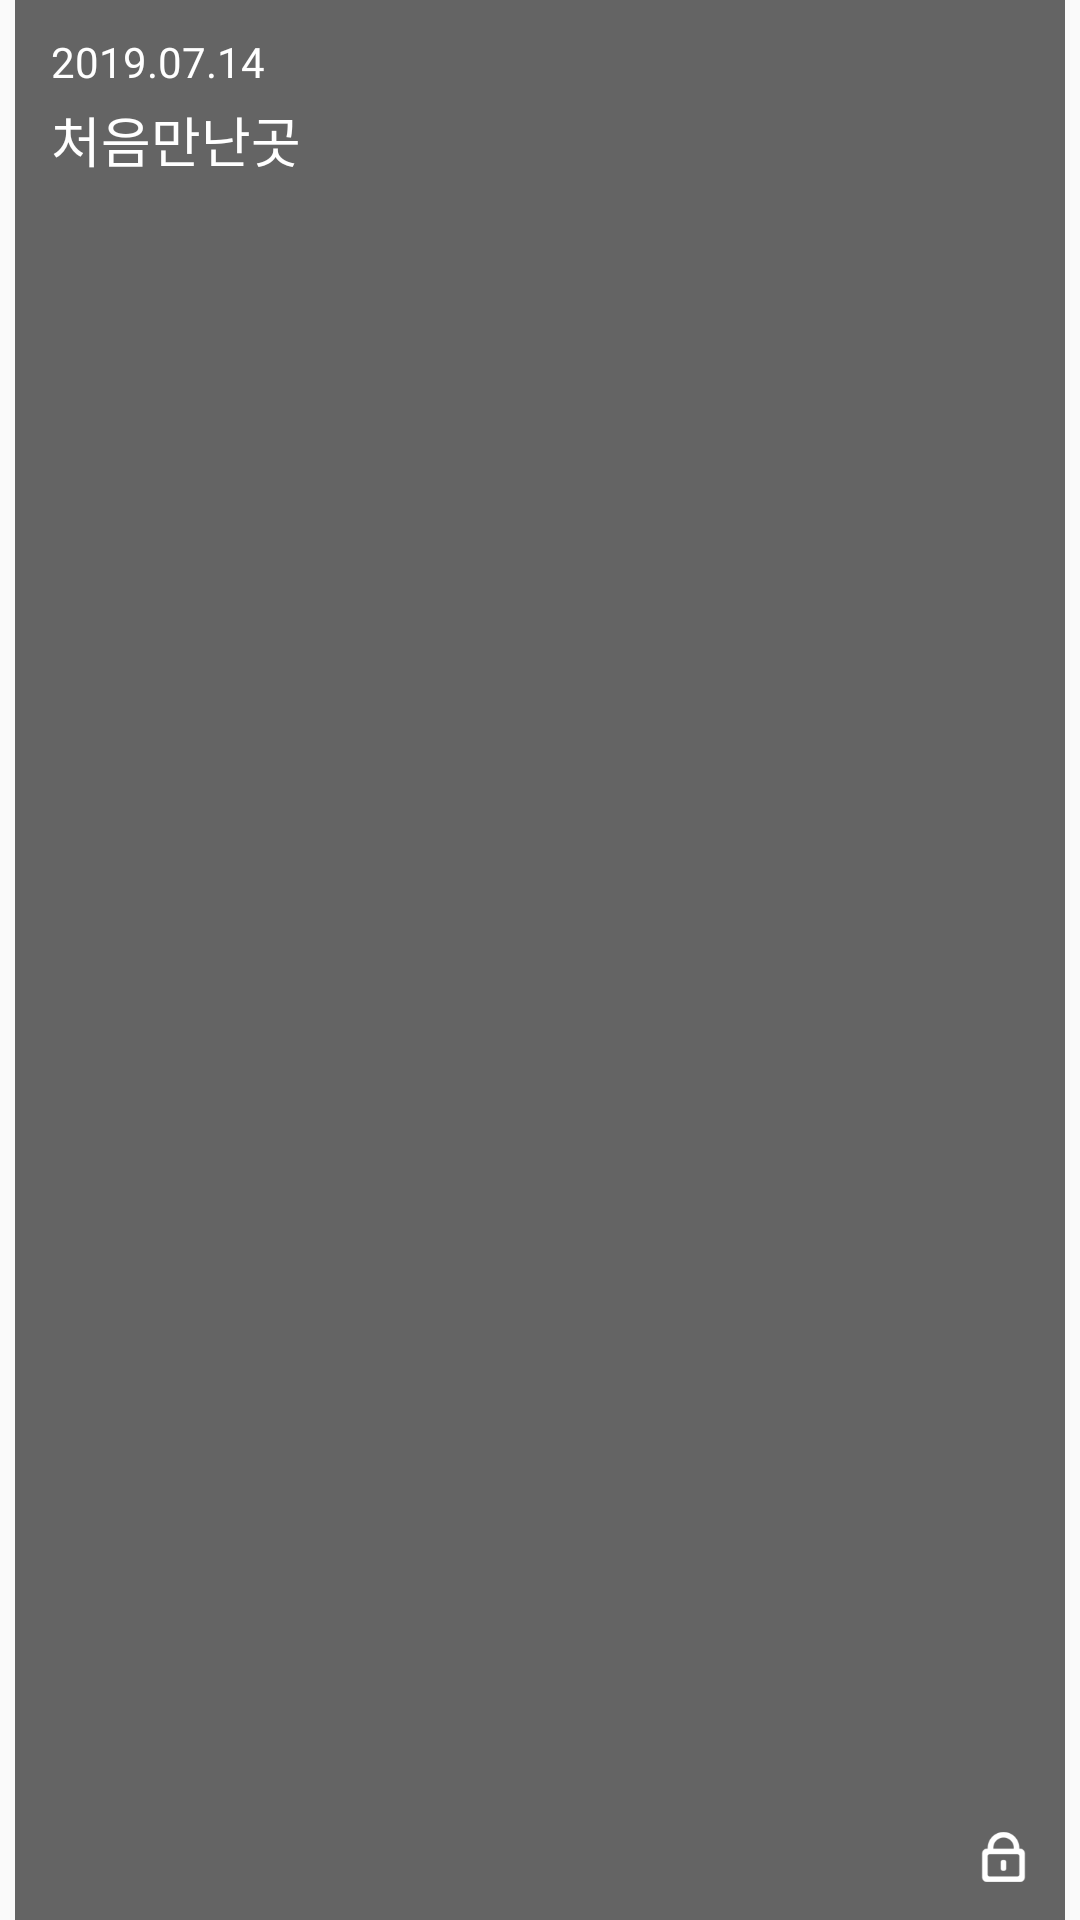

Icon click points for this 1080w x 1920h phone screenshot, format point (x, y):
lock: point (1003, 1857)
